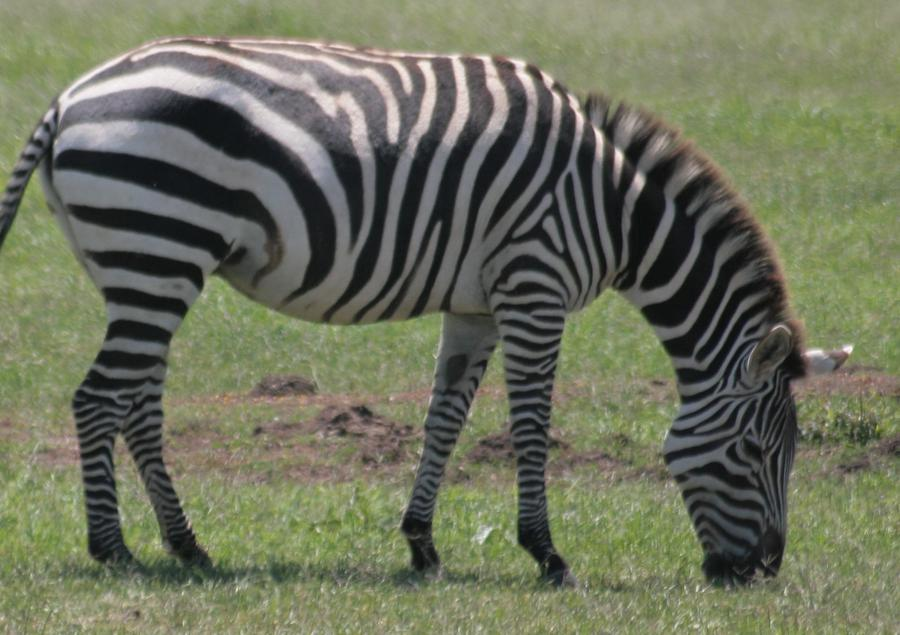zebra_plains: (54, 8, 604, 334)
